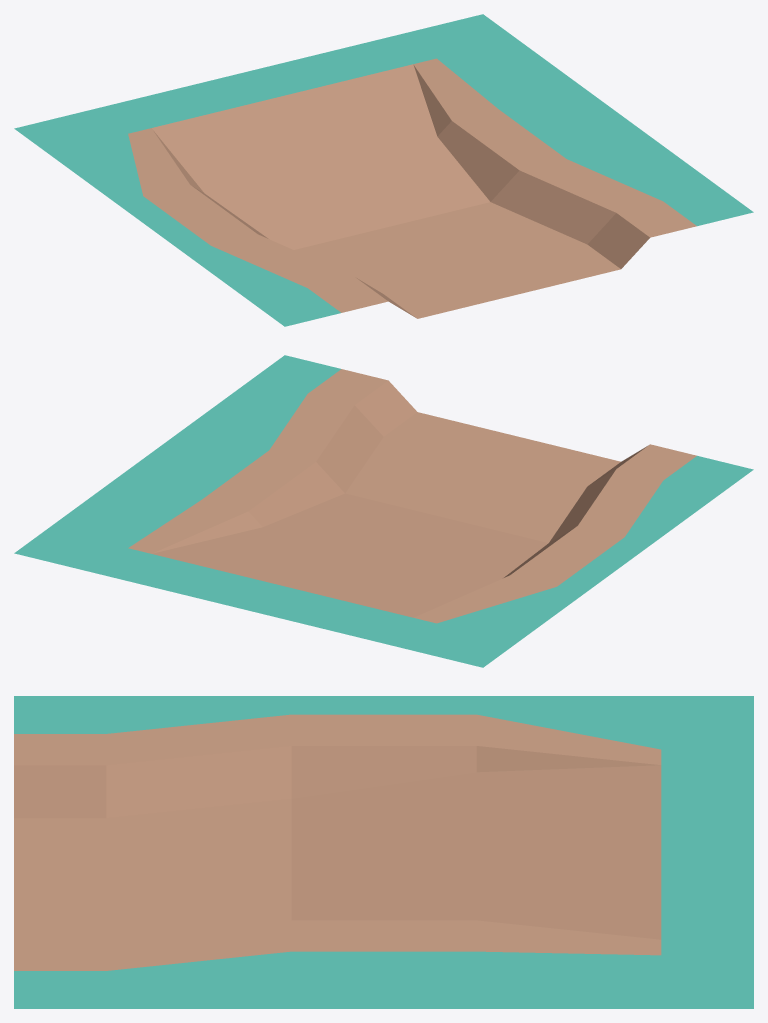
The model's file is ground_pathEnd.glb.
3 renders of one model, top to bottom at view 1: azimuth 30°, elevation 25°; view 2: azimuth 150°, elevation 25°; view 3: azimuth 270°, elevation 25°, orthographic. The views are drawn at different scales.
Parts seen in each view (by area): view 1: ground_pathEnd; view 2: ground_pathEnd; view 3: ground_pathEnd.
Boxes of the visible parts, x1,y1,x2,y2 form: ground_pathEnd: (14,14,753,326); ground_pathEnd: (14,355,753,667); ground_pathEnd: (14,696,753,1008).
Bounding box in the file's own units: 1 × 0.05 × 1.
